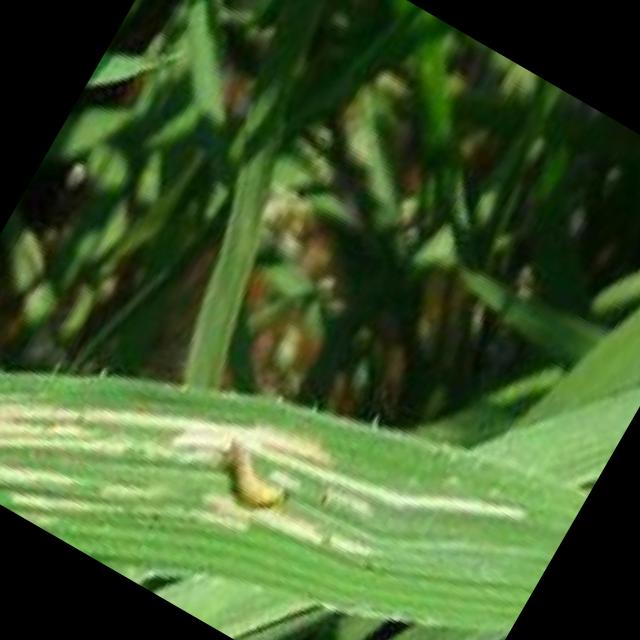leaf-folder: (194, 418, 308, 547)
